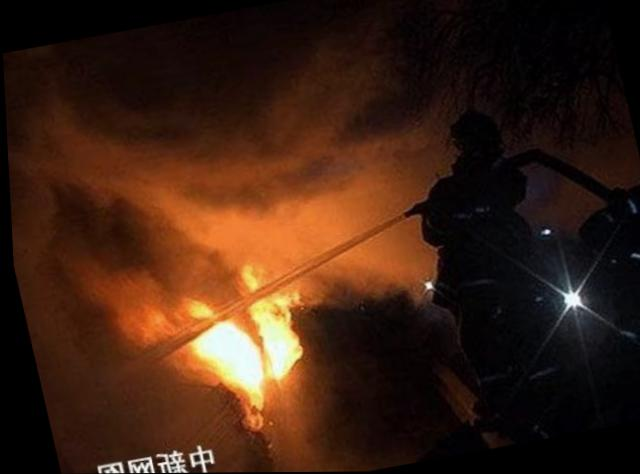fire: (165, 253, 333, 419)
